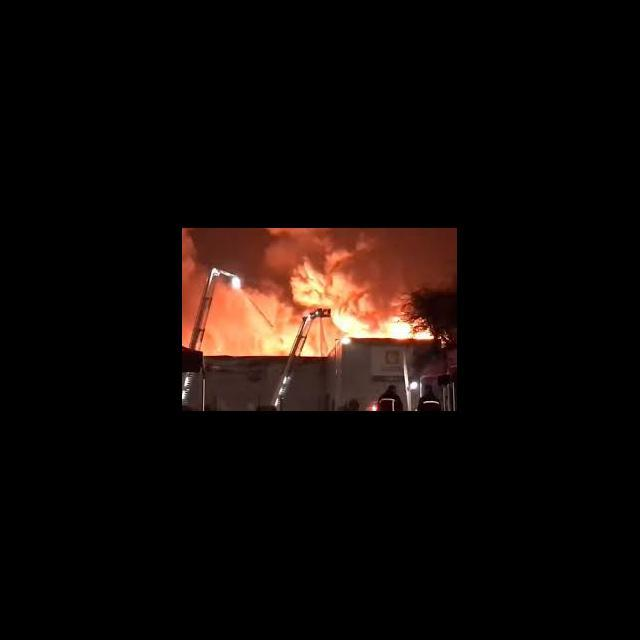Fire: (184, 228, 436, 358)
